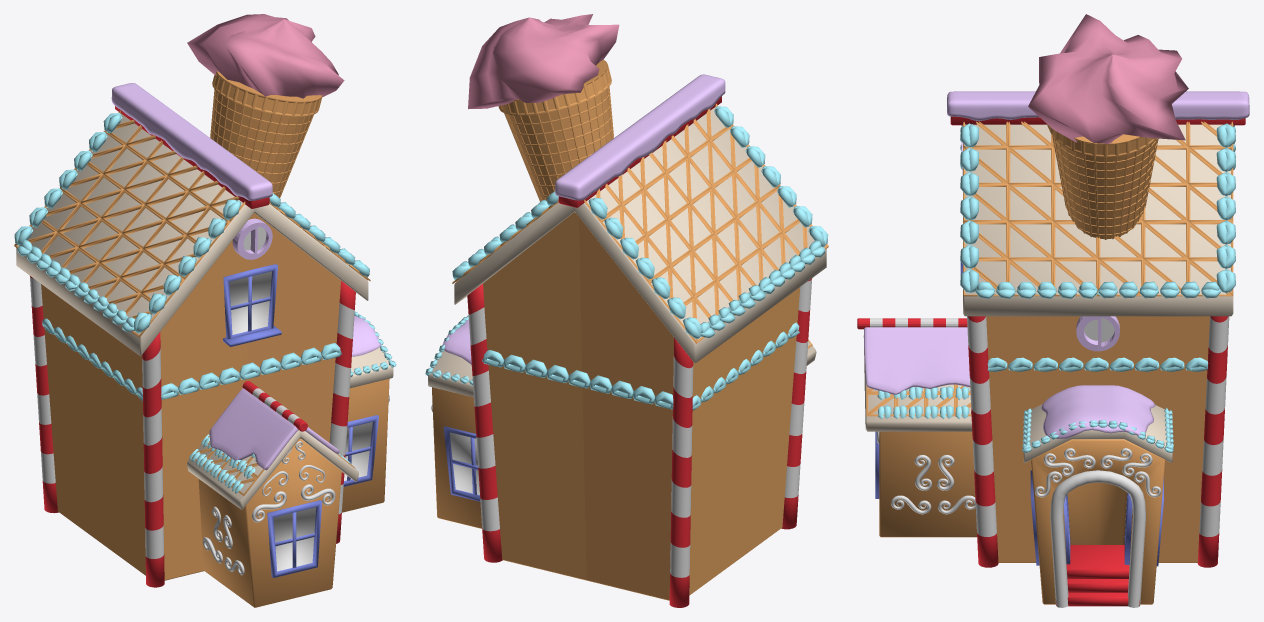
The model's file is candyHouse 1.fbx.
3 renders of one model, left to right at view 1: azimuth 30°, elevation 25°; view 2: azimuth 150°, elevation 25°; view 3: azimuth 270°, elevation 25°, orthographic. The views are drawn at different scales.
Visible parts, largest first — view 1: Cube.017, Cube.001; view 2: Cube.017, Cube.001; view 3: Cube.017, Cube.001.
Boxes of the visible parts, x1,y1,x2,y2 form: Cube.017: (14,83,396,607); Cube.001: (187,14,344,198); Cube.017: (425,74,828,607); Cube.001: (468,14,619,201); Cube.017: (857,91,1249,607); Cube.001: (1028,14,1188,239).
Size of the model in its own units: 333 by 520 by 357.
